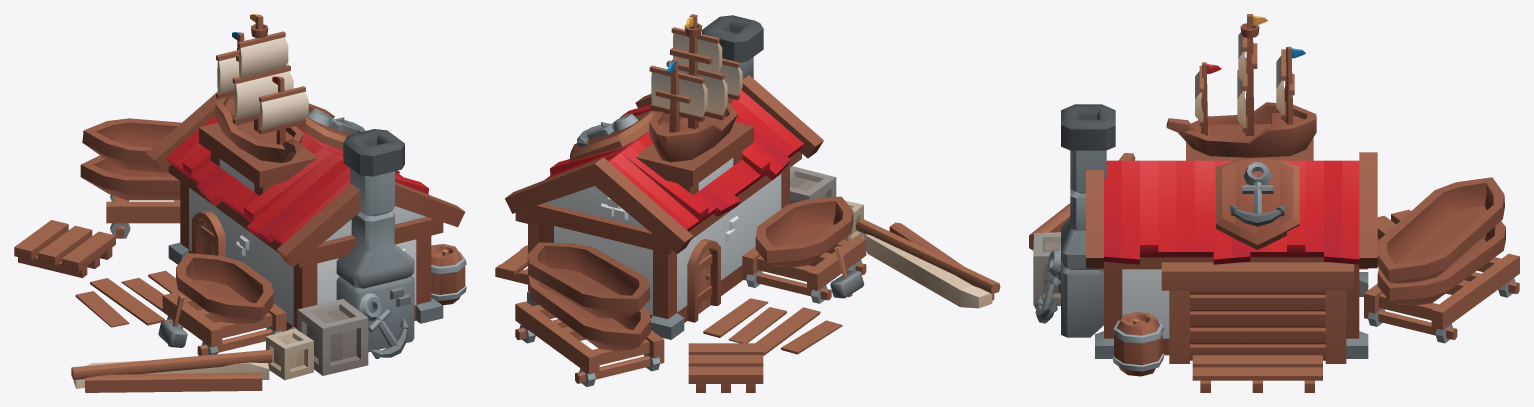
Rendered from shipyard.glb.
The picture shows the model from 3 angles, left to right: view 1: azimuth 30°, elevation 25°; view 2: azimuth 150°, elevation 25°; view 3: azimuth 270°, elevation 25°; orthographic projection. The views are drawn at different scales.
Parts seen in each view (by area): view 1: shipyard; view 2: shipyard; view 3: shipyard.
Part boxes in pixels (box(x1,y1,x2,y2)): shipyard: box(14, 14, 466, 392); shipyard: box(495, 14, 1000, 392); shipyard: box(1029, 14, 1519, 392).
Size of the model in its own units: 0.9597 by 0.6195 by 0.9419.
1 material, 1 textured.
